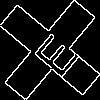E: (25, 25, 81, 80)
